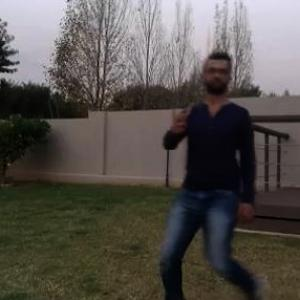takeoff-hand: (166, 98, 194, 134)
